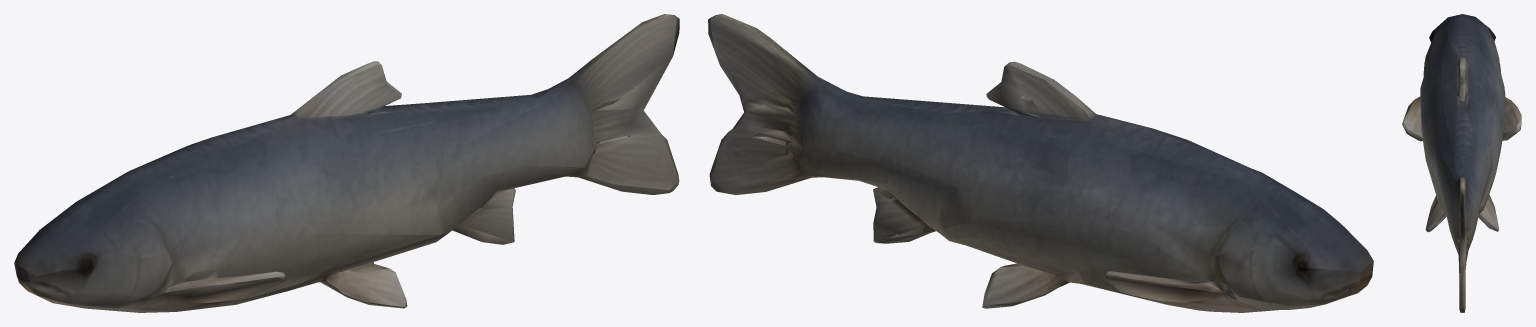
The model's file is fish_truck_l0.glb.
The picture shows the model from 3 angles, left to right: view 1: azimuth 30°, elevation 25°; view 2: azimuth 150°, elevation 25°; view 3: azimuth 270°, elevation 25°; orthographic projection. The views are drawn at different scales.
Visible parts, largest first — view 1: geometry_0; view 2: geometry_0; view 3: geometry_0.
Part boxes in pixels (x1,y1,x2,y2): geometry_0: (14, 14, 679, 312); geometry_0: (708, 14, 1373, 312); geometry_0: (1402, 14, 1521, 312).
Size of the model in its own units: 1.6 by 0.5333 by 0.347.
Materials: 1 (1 with a texture image).
